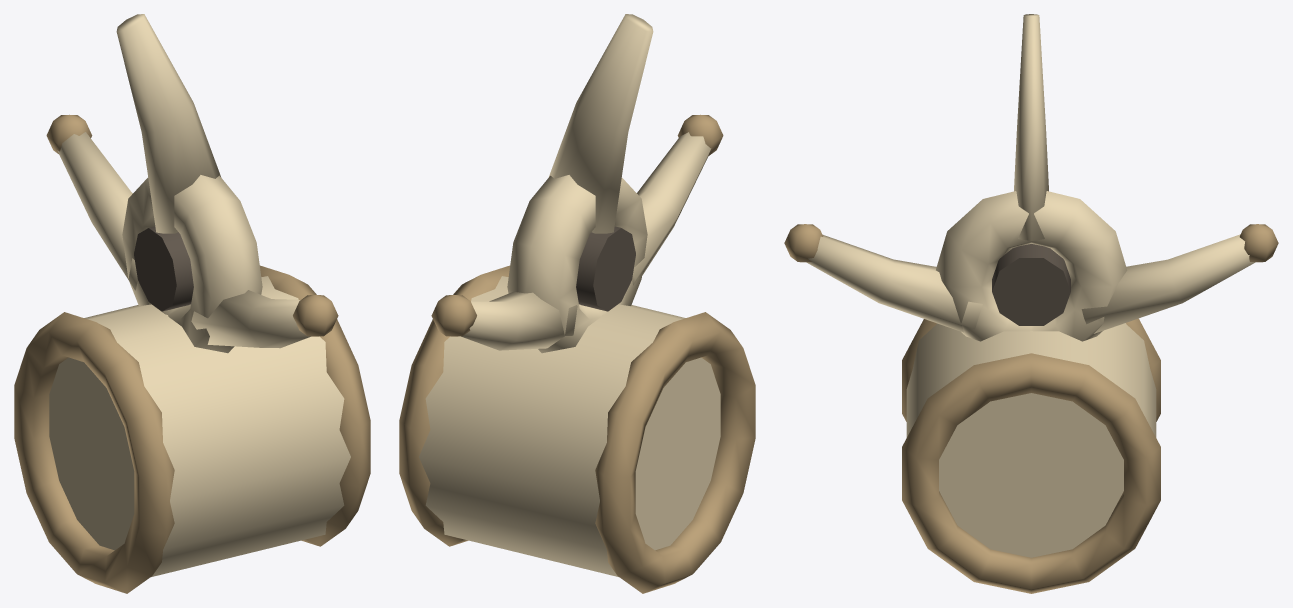
File: fossil-vertebra.glb
3 views of the same model, side by side, from view 1: azimuth 30°, elevation 25°; view 2: azimuth 150°, elevation 25°; view 3: azimuth 270°, elevation 25° (orthographic). The views are drawn at different scales.
Parts seen in each view (by area): view 1: fossil-vertebra; view 2: fossil-vertebra; view 3: fossil-vertebra.
Boxes of the visible parts, left/top/right/bottom form: fossil-vertebra: left=14, top=14, right=370, bottom=593; fossil-vertebra: left=399, top=14, right=755, bottom=593; fossil-vertebra: left=784, top=14, right=1278, bottom=593.
Bounding box in the file's own units: 0.1864 × 0.4302 × 0.376.
